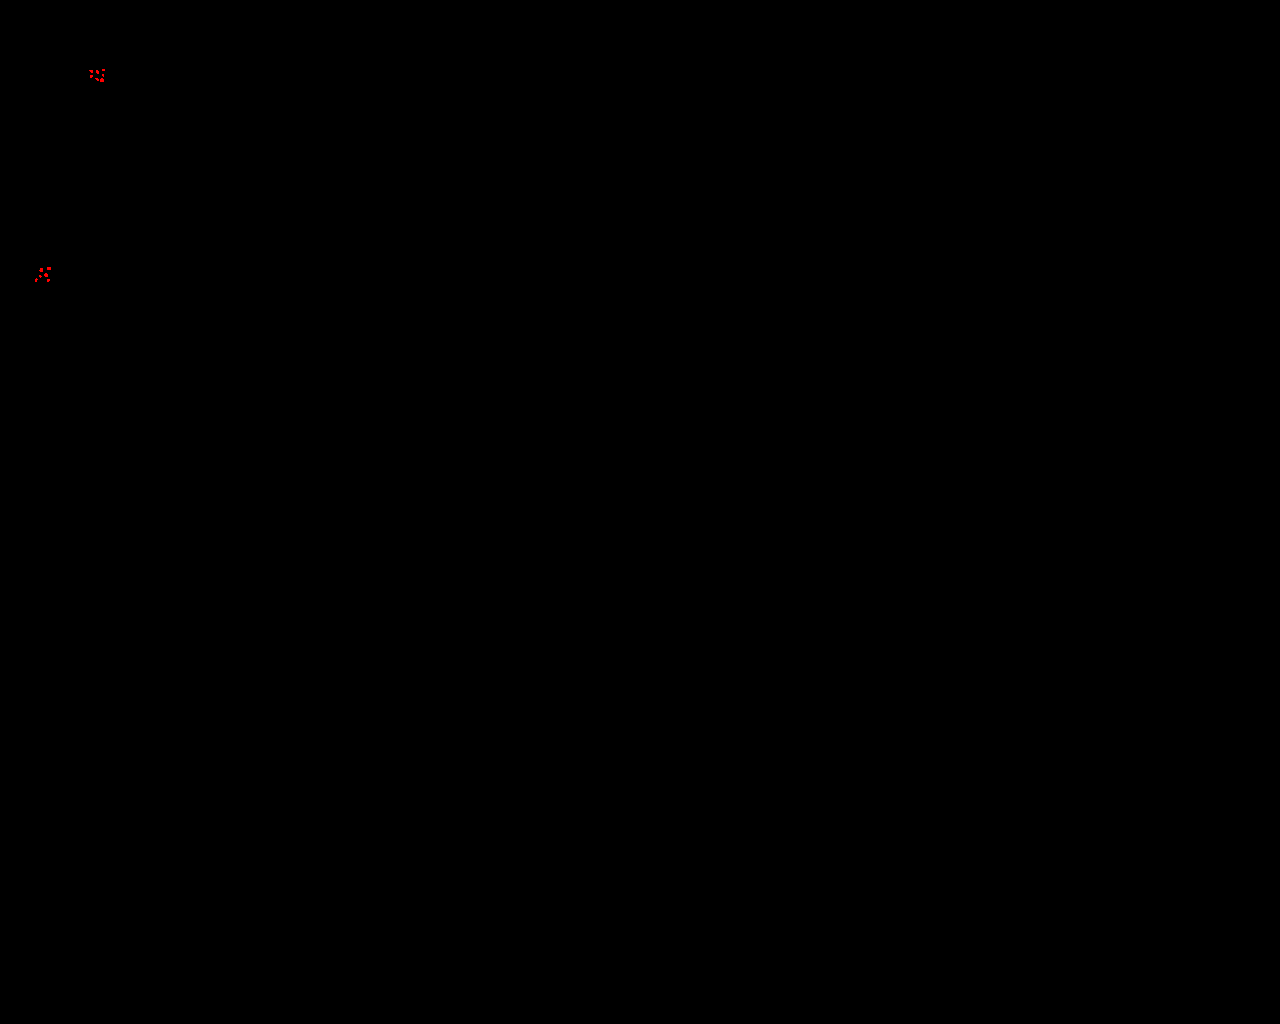Target: (39, 267, 43, 272), (44, 273, 48, 277), (89, 70, 93, 73), (96, 70, 99, 74), (95, 78, 99, 82), (100, 78, 104, 82), (34, 278, 38, 282), (90, 75, 93, 78), (39, 275, 42, 278), (47, 279, 50, 282), (47, 267, 51, 270), (102, 74, 104, 77), (102, 69, 104, 71)
